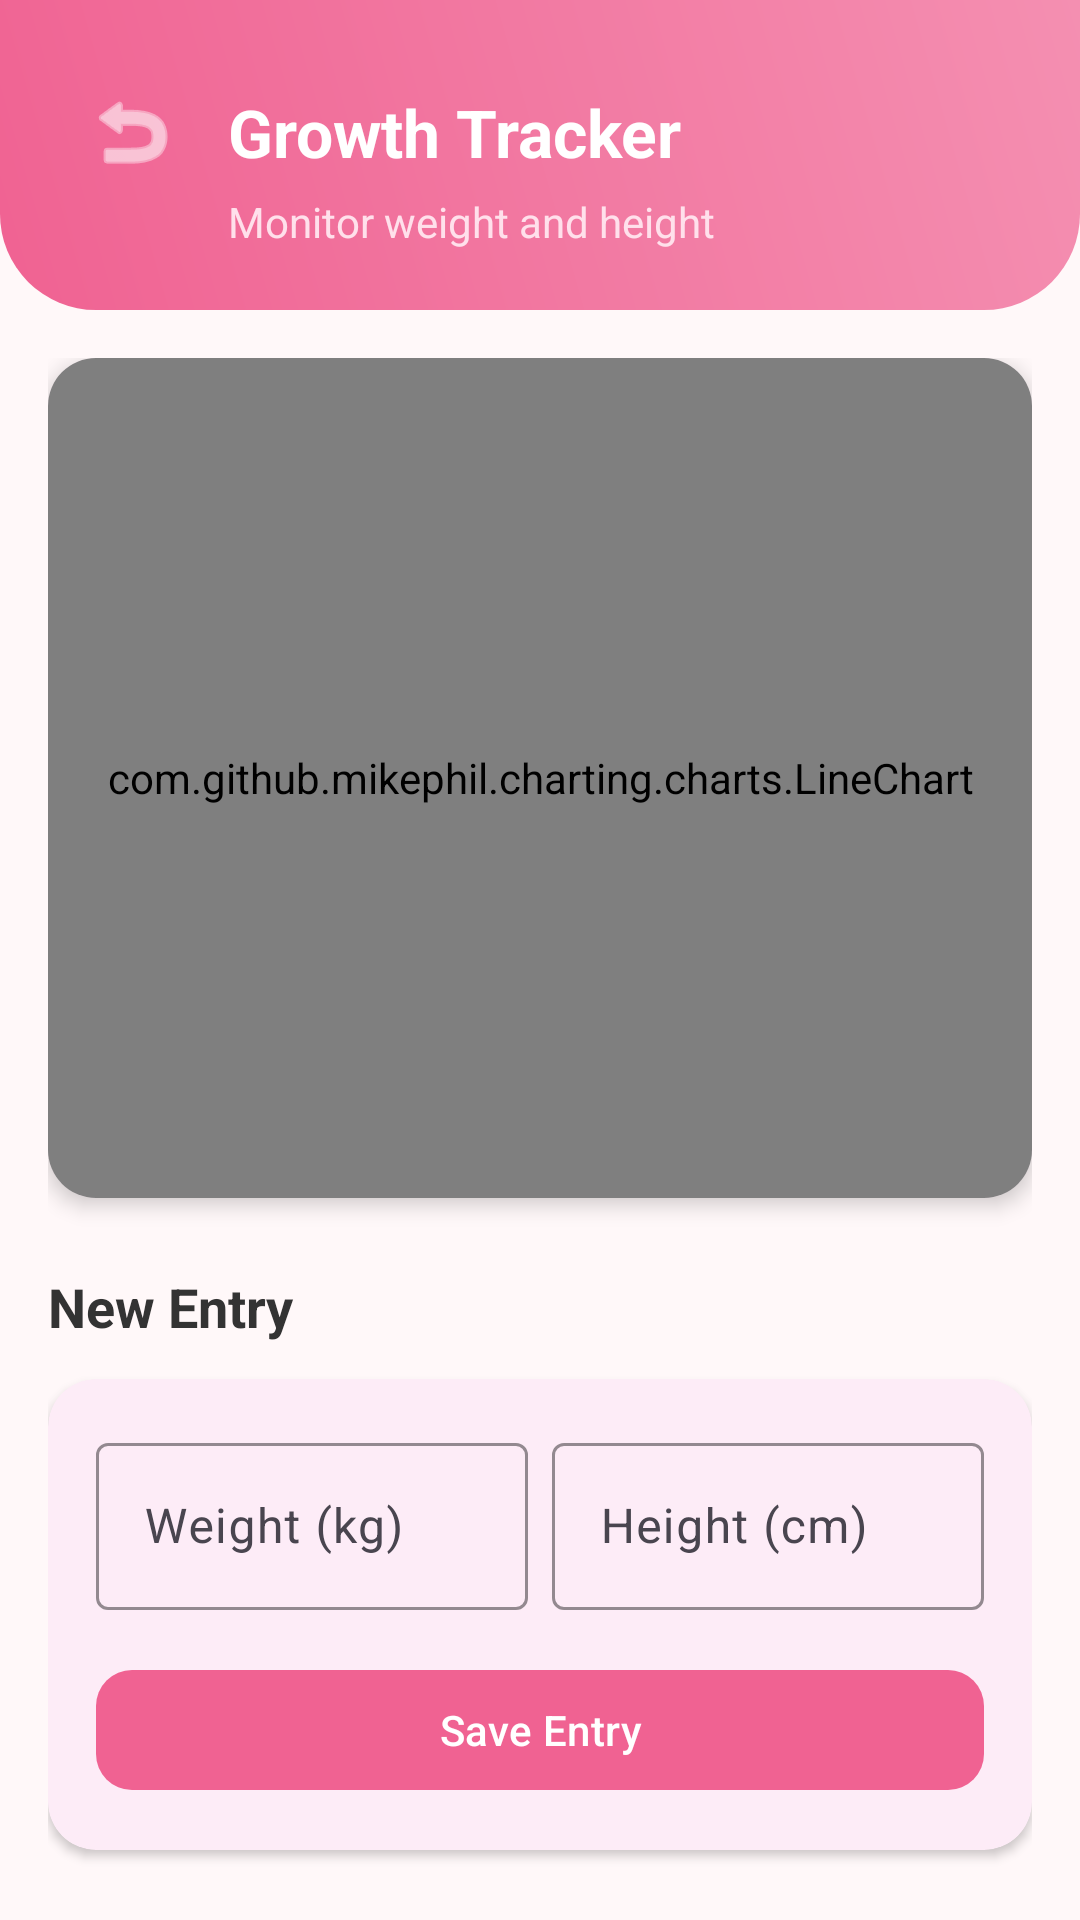

Where to tap for icons on this 1080px x 1920px app screen, as (x=x, y=y):
Back: (x=133, y=133)
